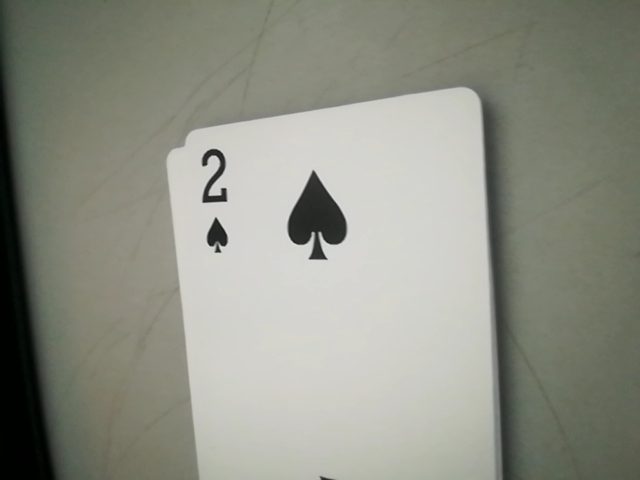ht 2: (181, 138, 251, 268)
